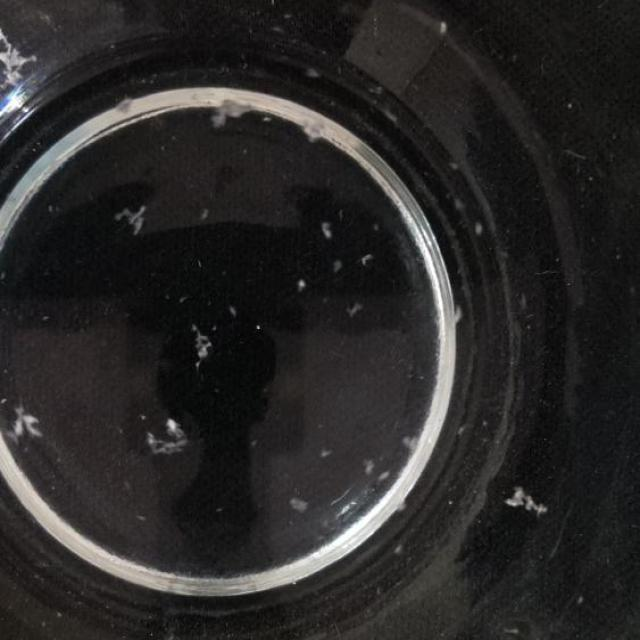fiber: (143, 416, 194, 466), (5, 400, 50, 445), (502, 488, 555, 518), (210, 97, 260, 126), (190, 318, 212, 376), (118, 202, 150, 241), (281, 481, 314, 514), (346, 296, 374, 322), (318, 208, 339, 236), (222, 293, 242, 319), (296, 270, 312, 300), (358, 250, 379, 265)
